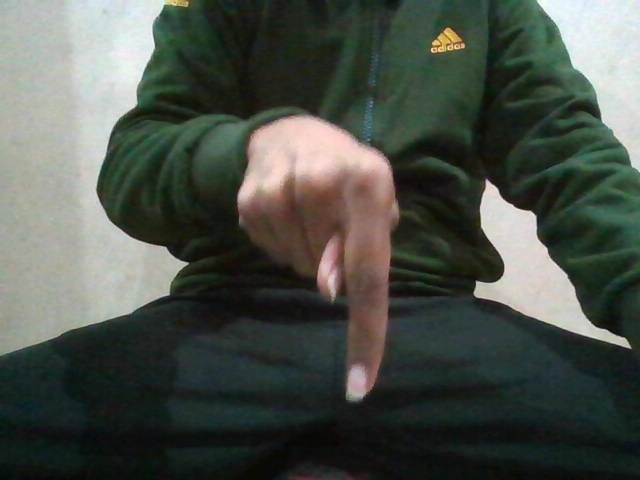Z: (241, 138, 397, 405)
